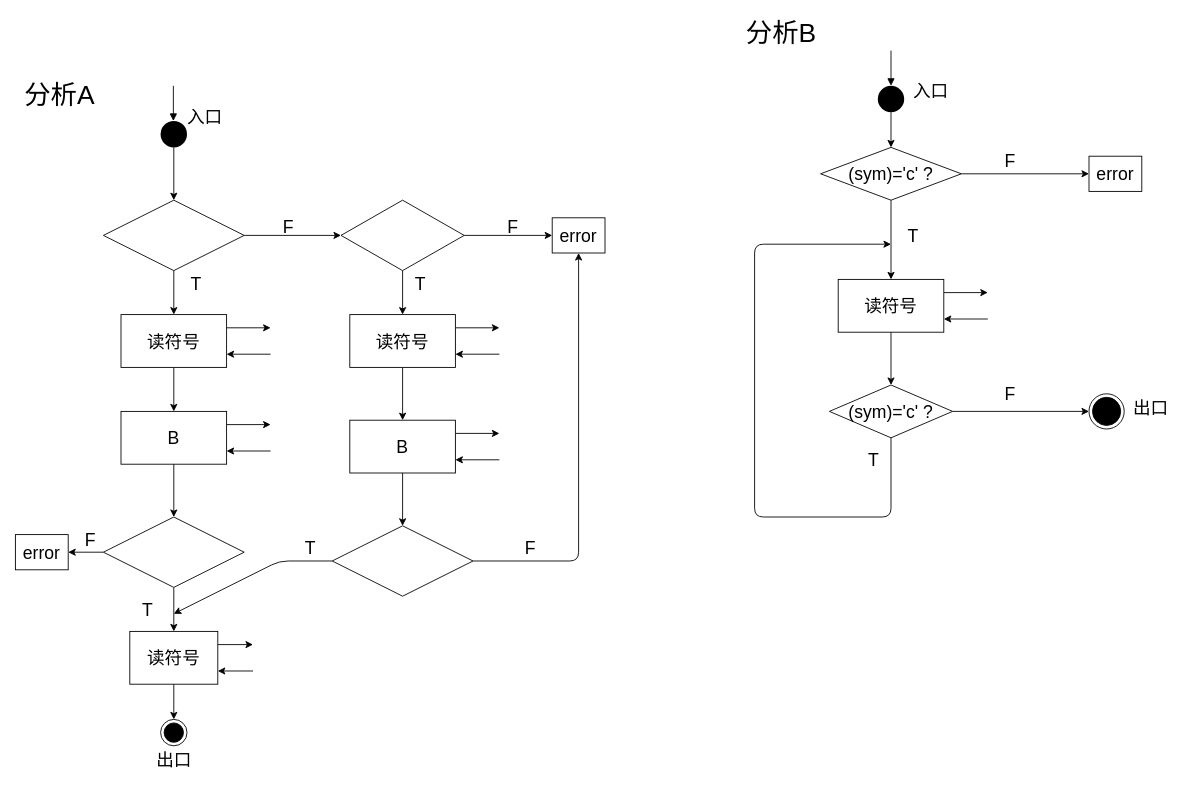
This 1192x787 diagram has some shape labels left out. The shapes that lost their labels are listed below. From the top down, each one's centre as x and y in pixels, then its label:
At point 173,235: "(sym)='(' ?".
At point 402,235: "(sym)='d' ?".
At point 173,551: "(sym)=')' ?".
At point 402,560: "(sym)='e' ?".
